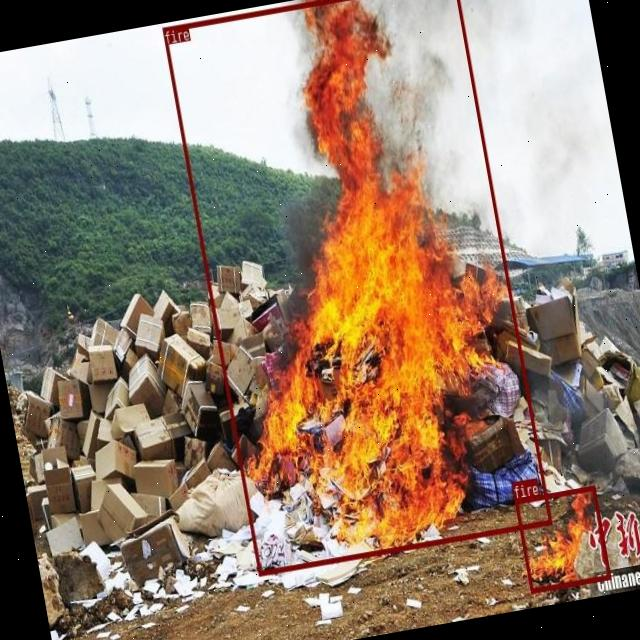fire: (162, 0, 551, 575), (514, 485, 610, 593)
